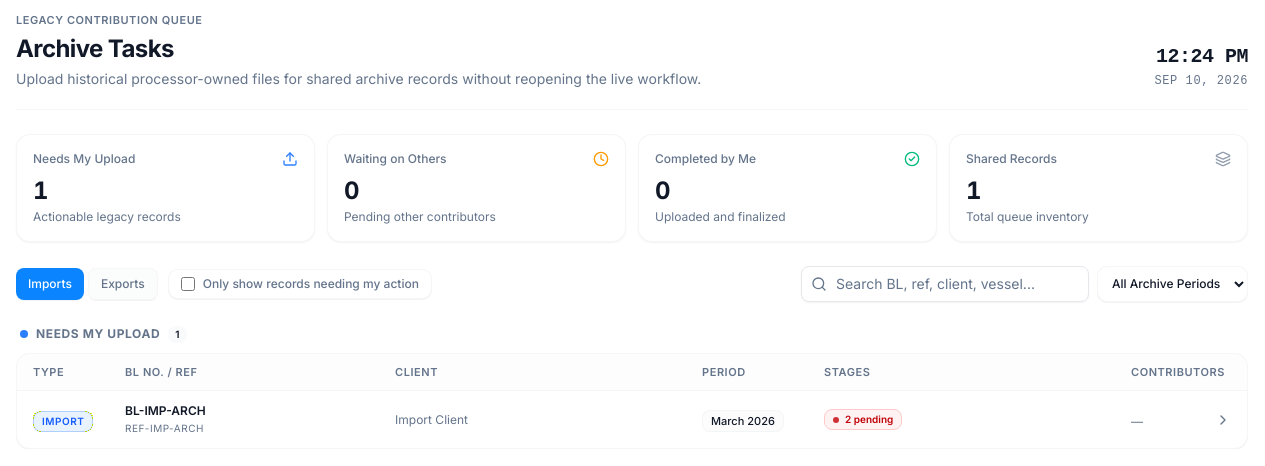
it: ArchiveTaskPage › lets processor users switch between import and export archive records
Expected: the text "BL-IMP-ARCH" is shown, [125,403,206,418]
Expected: the text "BL-EXP-ARCH" is not shown
Click the button "Exports".
click(123, 284)  # box [88,268,158,300]
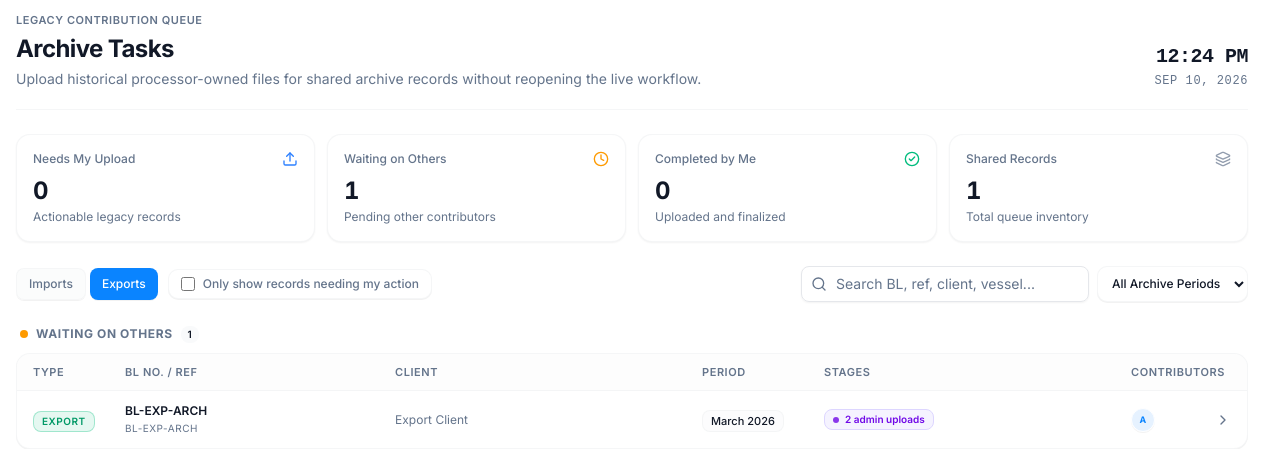
Now the 1st text "BL-EXP-ARCH" is shown, box [125,403,207,418]
Now the button "BL-IMP-ARCH" is gone
